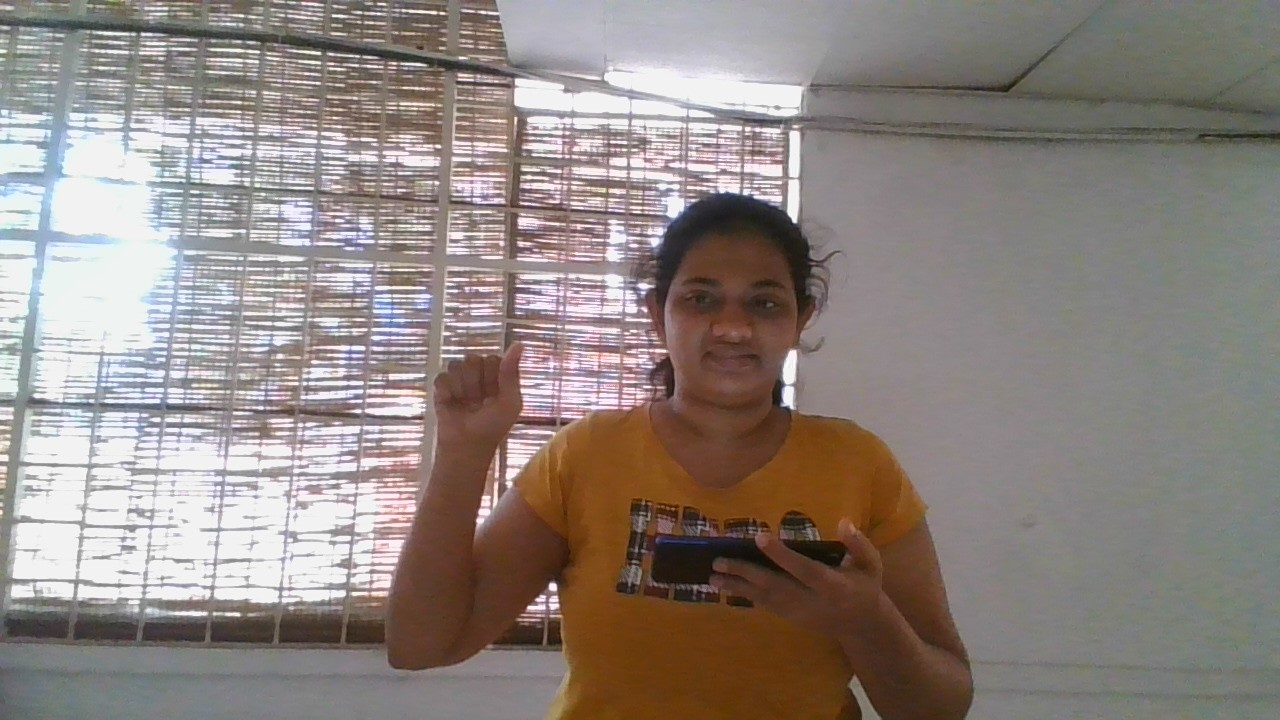a: (418, 339, 532, 453)
